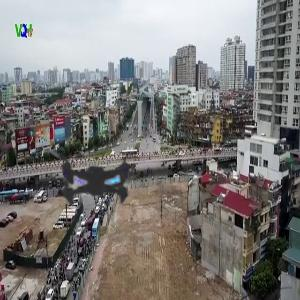drone: (14, 97, 188, 271)
